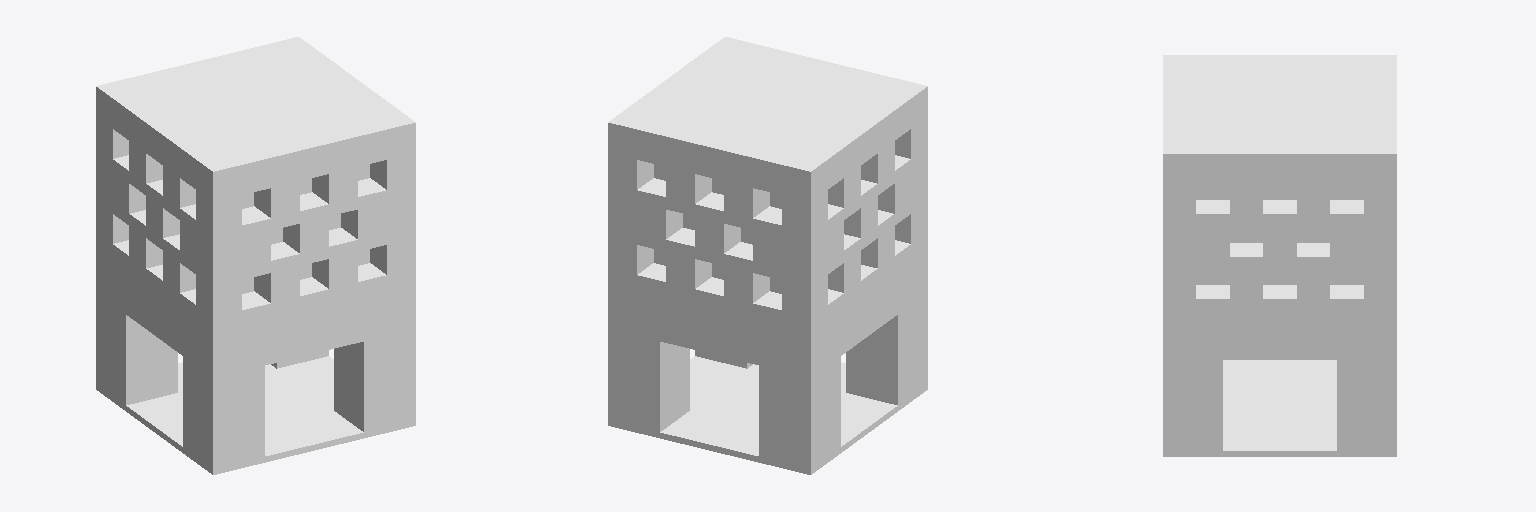
Rendered from bill_I.obj.
3 renders of one model, left to right at view 1: azimuth 30°, elevation 25°; view 2: azimuth 150°, elevation 25°; view 3: azimuth 270°, elevation 25°, orthographic.
Size of the model in its own units: 35 by 50 by 35.